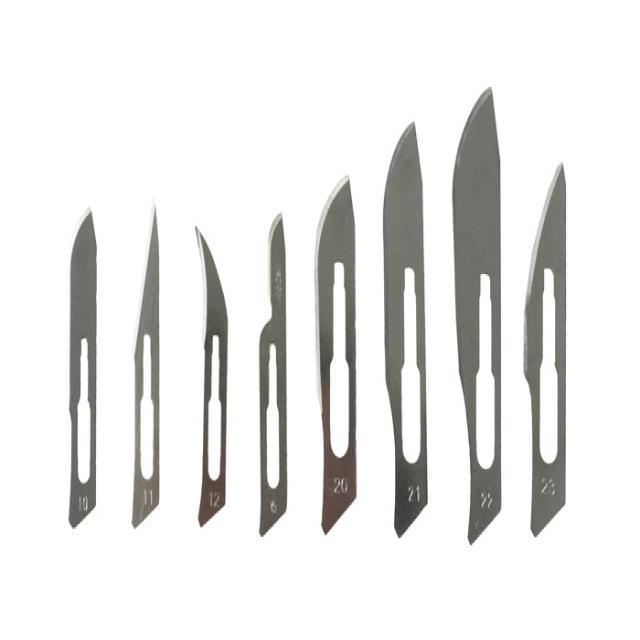Surgical blade: (453, 80, 505, 546), (378, 108, 433, 543), (308, 178, 365, 536), (518, 158, 570, 544), (247, 206, 298, 536), (62, 204, 111, 533), (188, 217, 228, 534), (127, 192, 163, 530)
